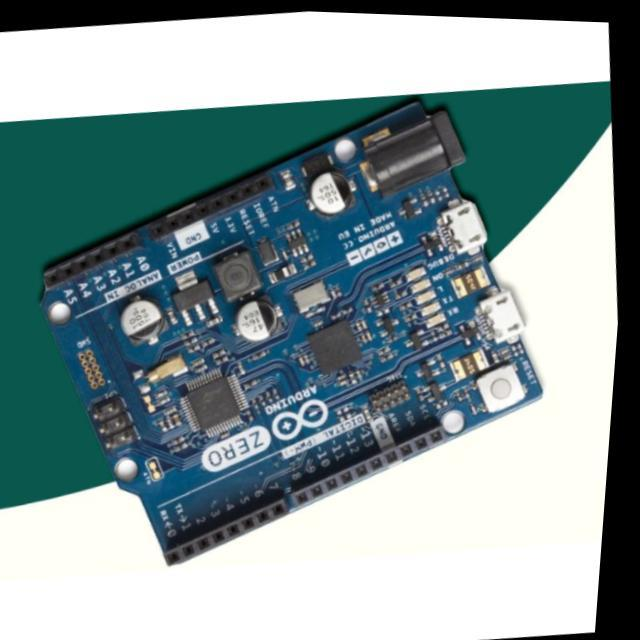Arduino-Zero: (42, 101, 541, 565)
